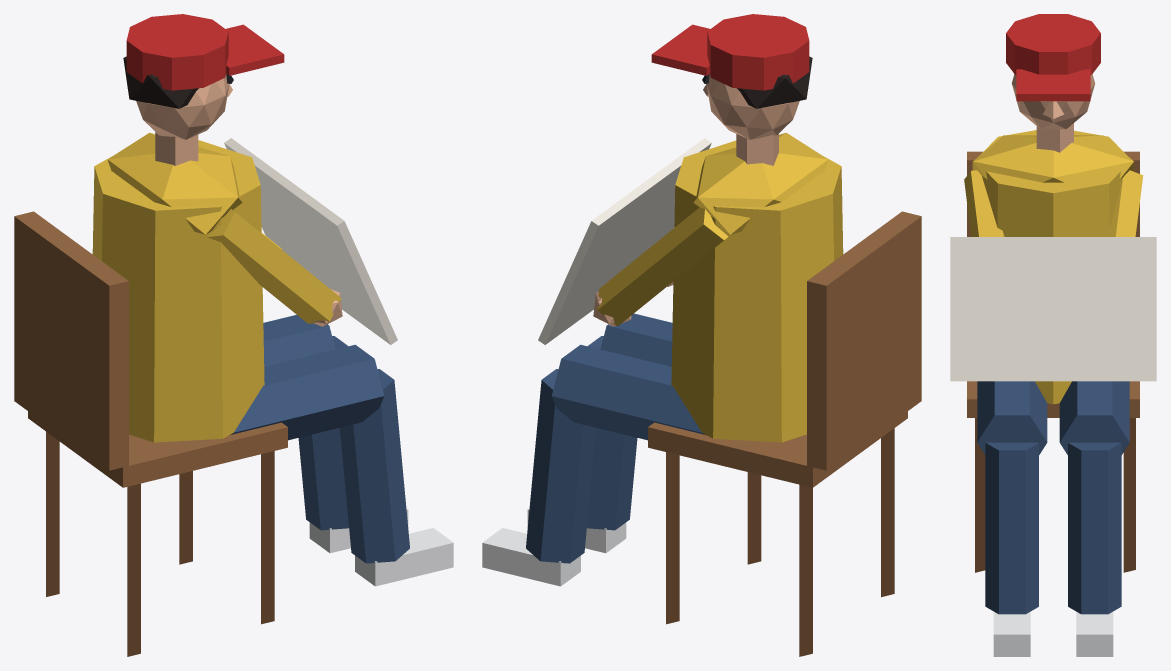
The model's file is fikagast_2.glb.
3 views of the same model, side by side, from view 1: azimuth 30°, elevation 25°; view 2: azimuth 150°, elevation 25°; view 3: azimuth 270°, elevation 25° (orthographic). The views are drawn at different scales.
Visible parts, largest first — view 1: fikagast_2; view 2: fikagast_2; view 3: fikagast_2.
Part boxes in pixels (x1,y1,x2,y2): fikagast_2: [14, 14, 453, 656]; fikagast_2: [482, 14, 921, 656]; fikagast_2: [950, 14, 1156, 656].
Size of the model in its own units: 0.915 by 1.38 by 0.5.
